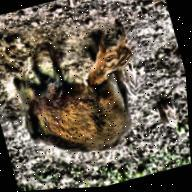boar: (0, 24, 145, 181), (74, 23, 146, 108)
